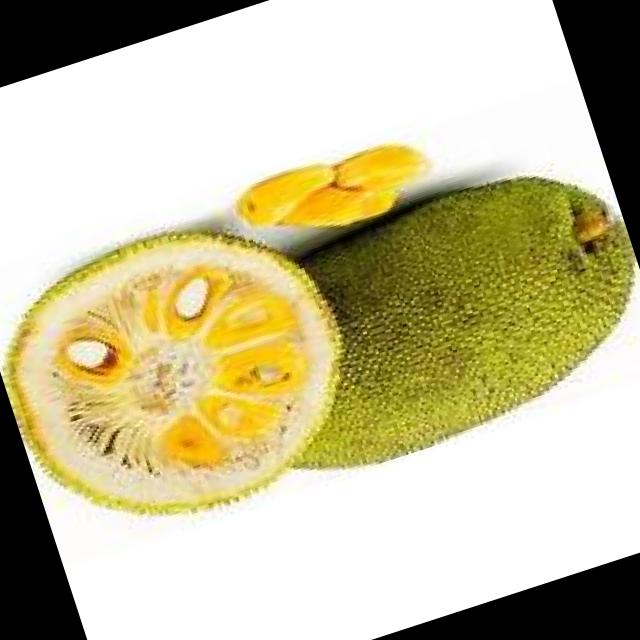Fruit: (0, 155, 410, 578), (235, 124, 640, 500)
